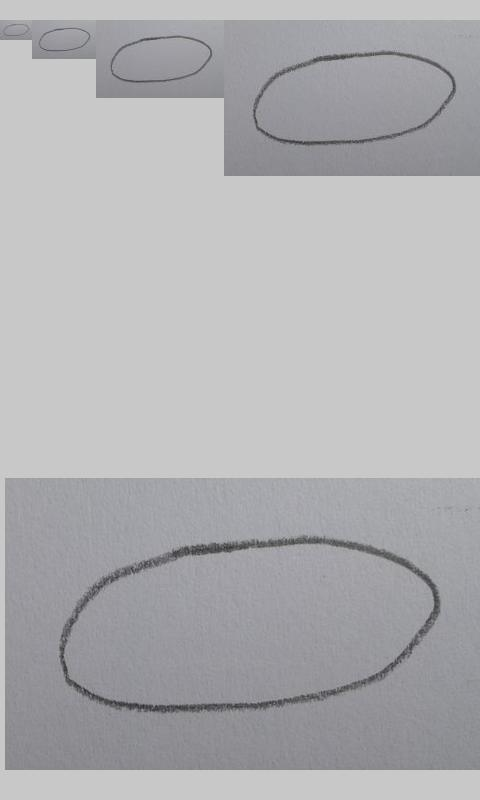chip: (58, 535, 441, 713), (253, 51, 458, 146), (110, 35, 213, 83), (38, 27, 91, 52), (3, 23, 30, 37)
